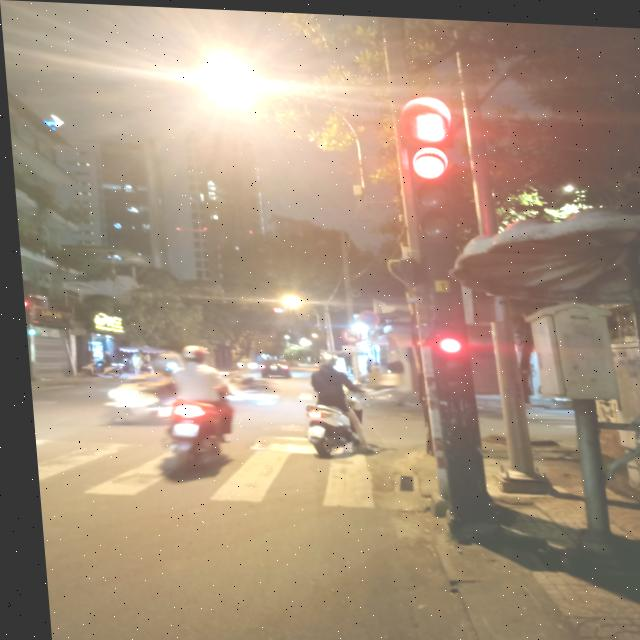Red: (402, 139, 456, 245), (418, 325, 466, 396)
